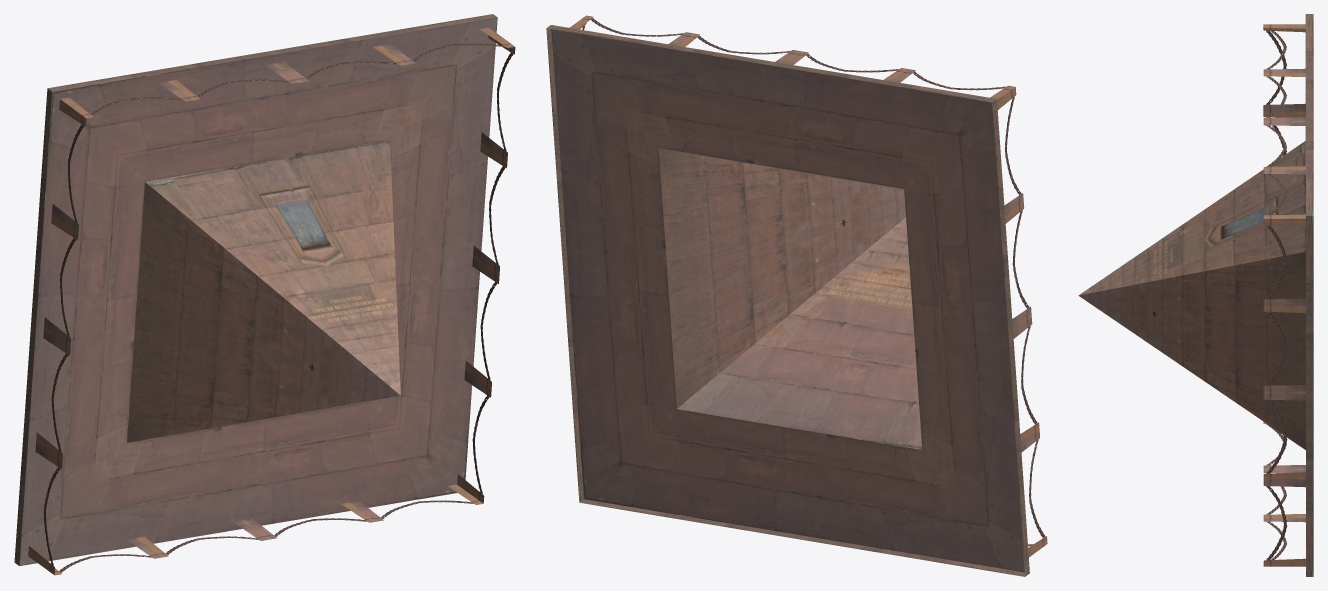
File: DEU_603_KARLSRUHE_PYRAMID_L.OBJ
3 views of the same model, side by side, from view 1: azimuth 30°, elevation 25°; view 2: azimuth 150°, elevation 25°; view 3: azimuth 270°, elevation 25° (orthographic). The views are drawn at different scales.
Parts seen in each view (by area): view 1: DEU_603_KARLSRUHE_PYRAMID_L:DEU_603_KARLSRUHE_PYRAMID; view 2: DEU_603_KARLSRUHE_PYRAMID_L:DEU_603_KARLSRUHE_PYRAMID; view 3: DEU_603_KARLSRUHE_PYRAMID_L:DEU_603_KARLSRUHE_PYRAMID.
Part boxes in pixels (x1,y1,x2,y2): DEU_603_KARLSRUHE_PYRAMID_L:DEU_603_KARLSRUHE_PYRAMID: [14, 14, 515, 575]; DEU_603_KARLSRUHE_PYRAMID_L:DEU_603_KARLSRUHE_PYRAMID: [546, 15, 1047, 576]; DEU_603_KARLSRUHE_PYRAMID_L:DEU_603_KARLSRUHE_PYRAMID: [1078, 14, 1313, 576].
Bounding box in the file's own units: 10.47 × 10.47 × 5.56.
Materials: 1 (1 with a texture image).
